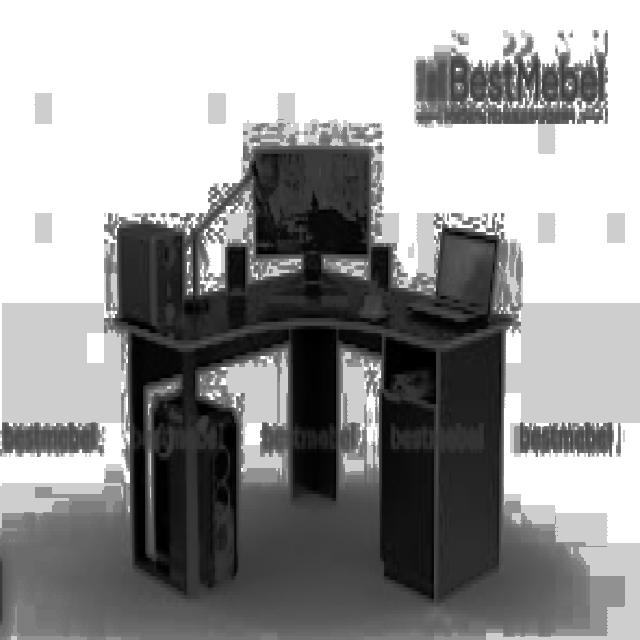table: (113, 266, 512, 602)
